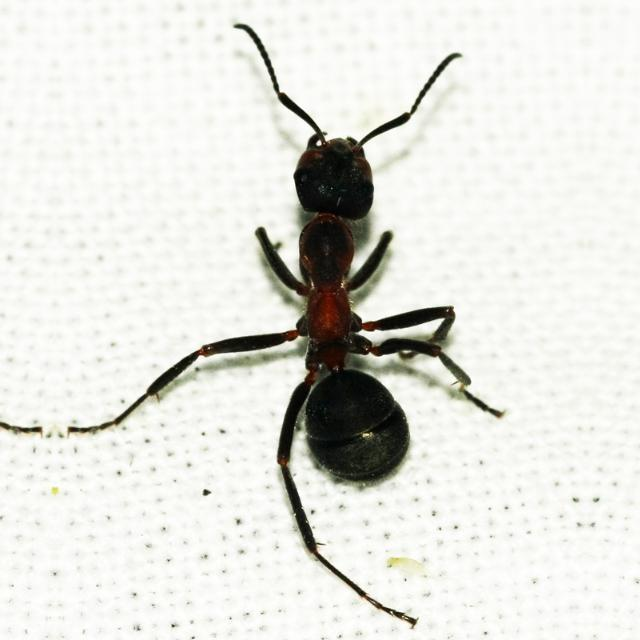Formica: (187, 49, 507, 522)
